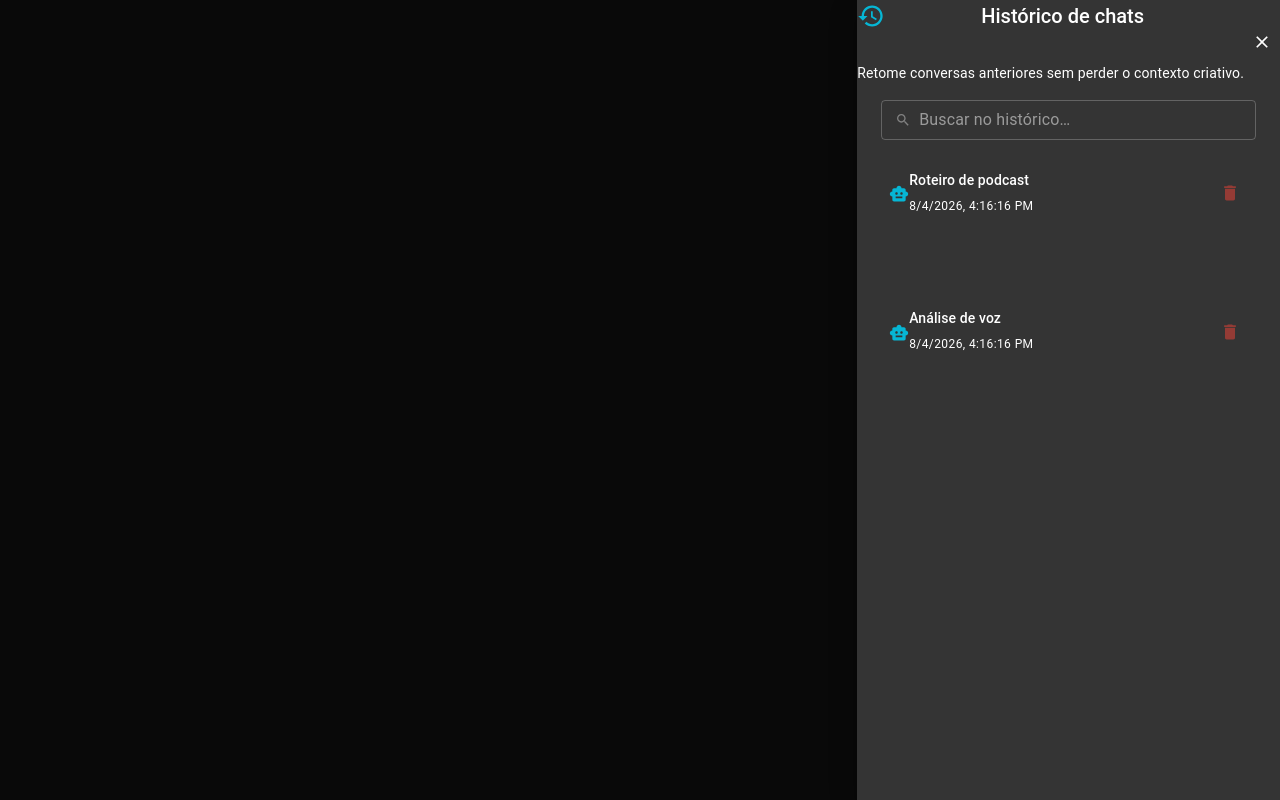
it: AssistantHistoryPanel › filtra sessões por busca no título
Type "podcast" into the search field with placeholder "Buscar no histórico…" at (1088, 120), box left=919, top=100, right=1256, bottom=140
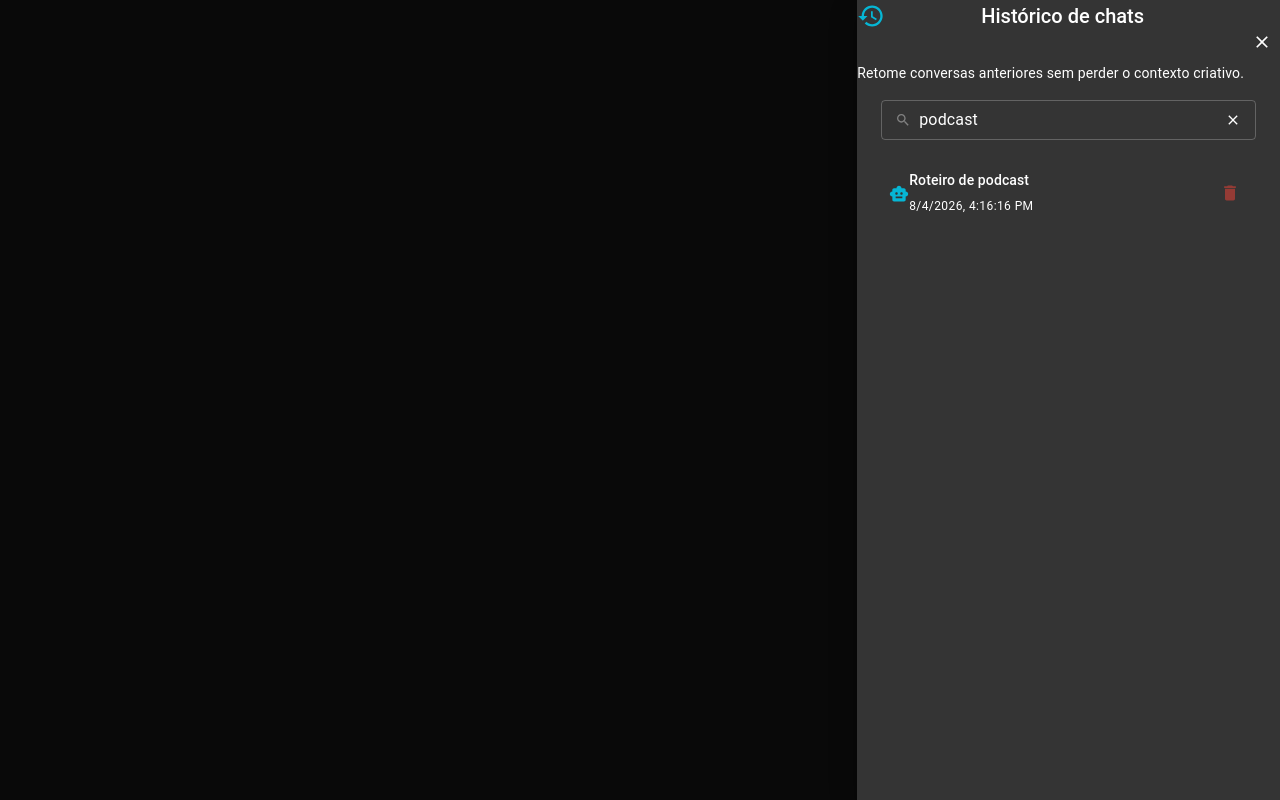
Expected: the heading "Roteiro de podcast" is shown, left=909, top=172, right=1029, bottom=188
Expected: the button "Análise de voz" is gone
